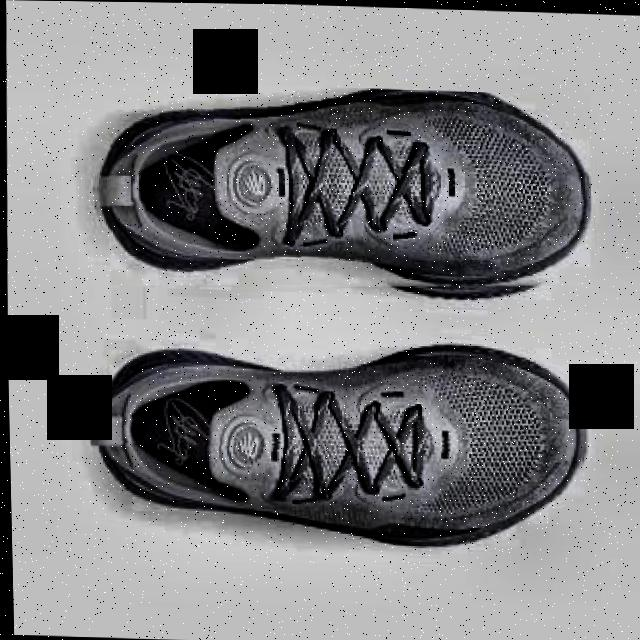shoe: (86, 79, 594, 302), (85, 327, 586, 548)
